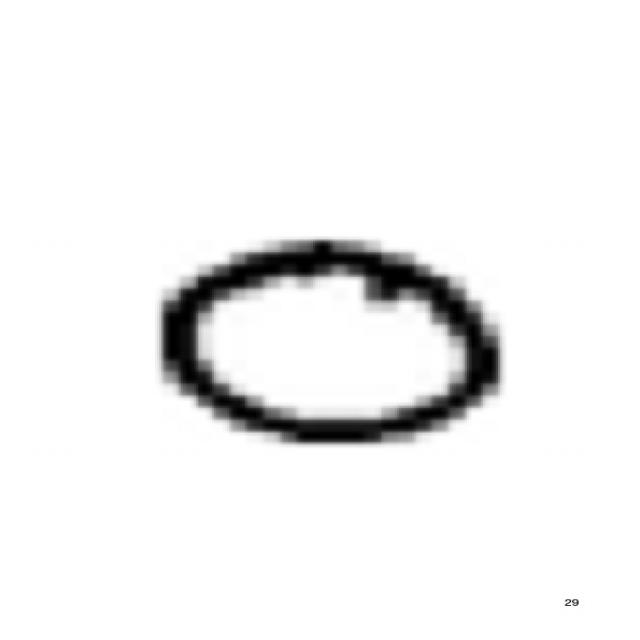5 -five-: (142, 228, 512, 456)
